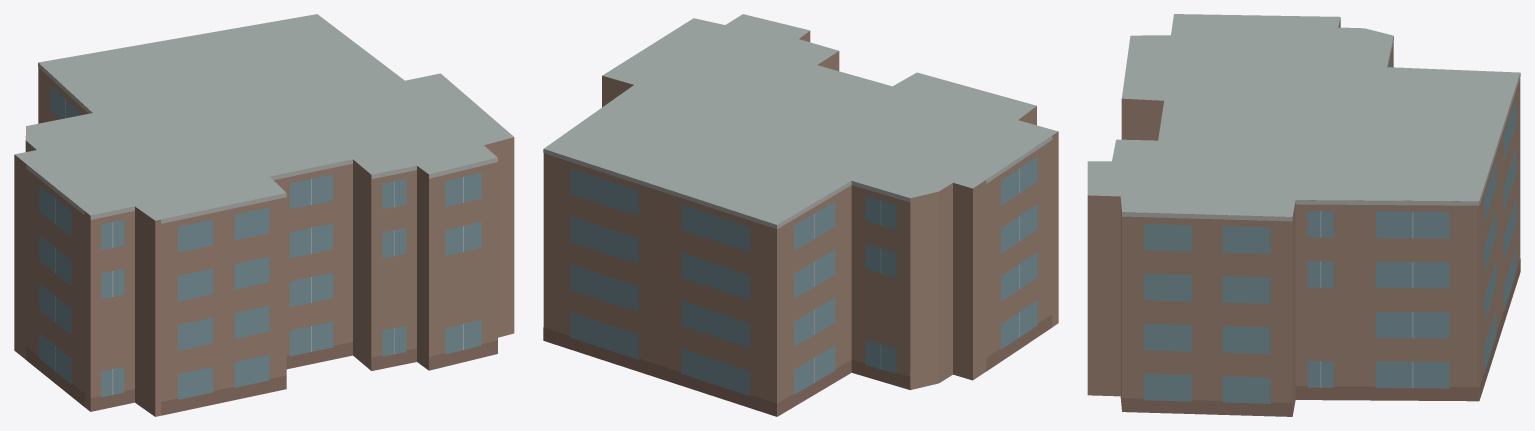
The model's file is survey-upis-33008848.glb.
3 renders of one model, left to right at view 1: azimuth 30°, elevation 25°; view 2: azimuth 150°, elevation 25°; view 3: azimuth 270°, elevation 25°, orthographic. The views are drawn at different scales.
Visible parts, largest first — view 1: survey-upis-33008848.tmp; view 2: survey-upis-33008848.tmp; view 3: survey-upis-33008848.tmp.
Boxes of the visible parts, x1,y1,x2,y2 form: survey-upis-33008848.tmp: (14,14,514,416); survey-upis-33008848.tmp: (543,14,1058,416); survey-upis-33008848.tmp: (1087,14,1520,416).
Bounding box in the file's own units: 23.75 × 10.9 × 21.4.
